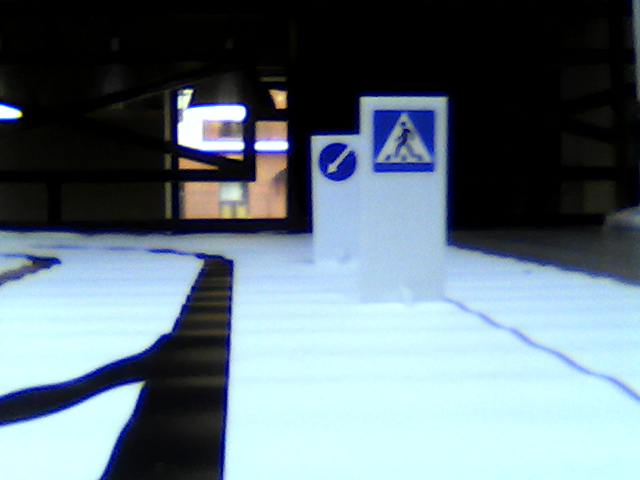pesh: (373, 109, 435, 173)
prep: (318, 141, 358, 182)
